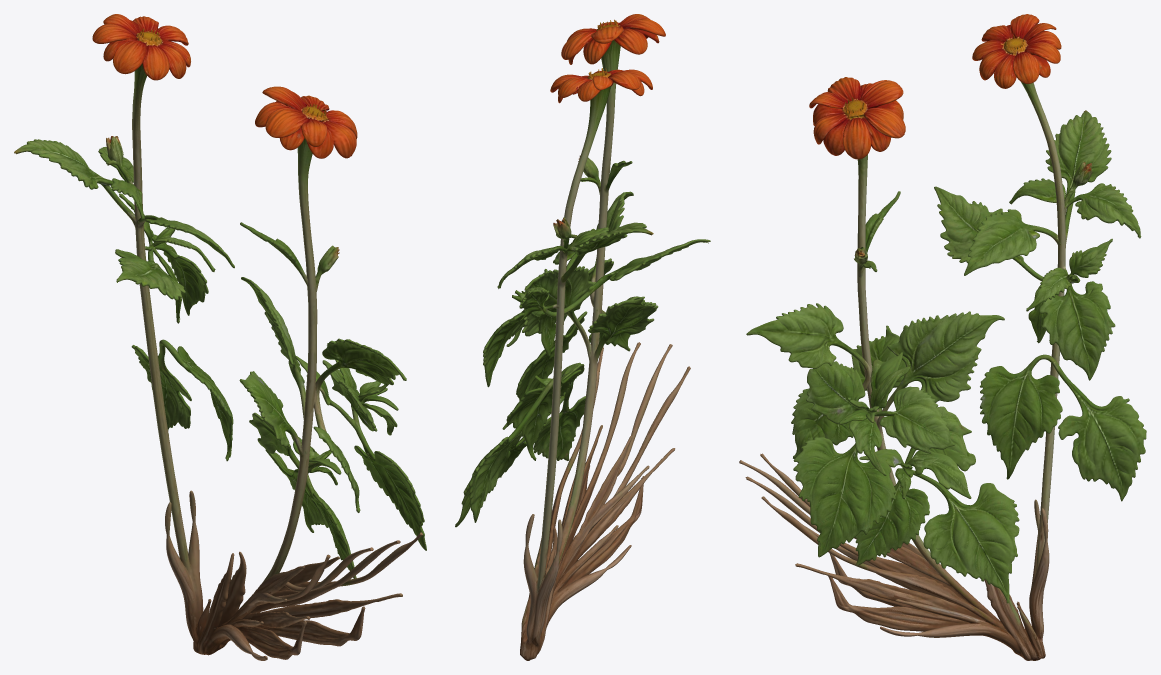
File: tithonia_rotundifolia.fbx
The picture shows the model from 3 angles, left to right: view 1: azimuth 30°, elevation 25°; view 2: azimuth 150°, elevation 25°; view 3: azimuth 270°, elevation 25°; orthographic projection. The views are drawn at different scales.
Visible parts, largest first — view 1: tripo_node_60ff4776; view 2: tripo_node_60ff4776; view 3: tripo_node_60ff4776.
Boxes of the visible parts, left/top/right/bottom form: tripo_node_60ff4776: left=14, top=14, right=426, bottom=660; tripo_node_60ff4776: left=455, top=14, right=710, bottom=660; tripo_node_60ff4776: left=739, top=14, right=1146, bottom=660.
Bounding box in the file's own units: 42.02 × 97.96 × 60.24.
1 material, 1 textured.
